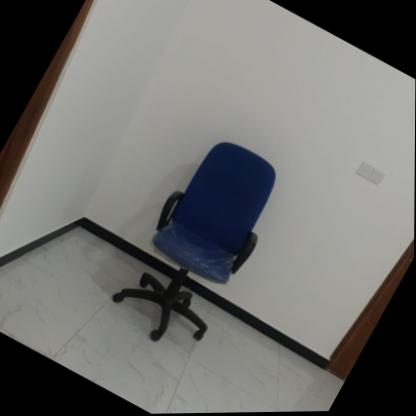Ceramic floor: (0, 219, 344, 414)
Chair: (101, 127, 295, 363)
